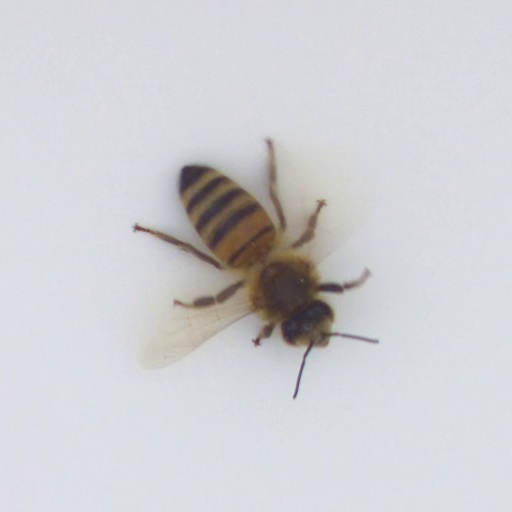Bee: (174, 162, 335, 347)
Thorax: (247, 253, 315, 319)
